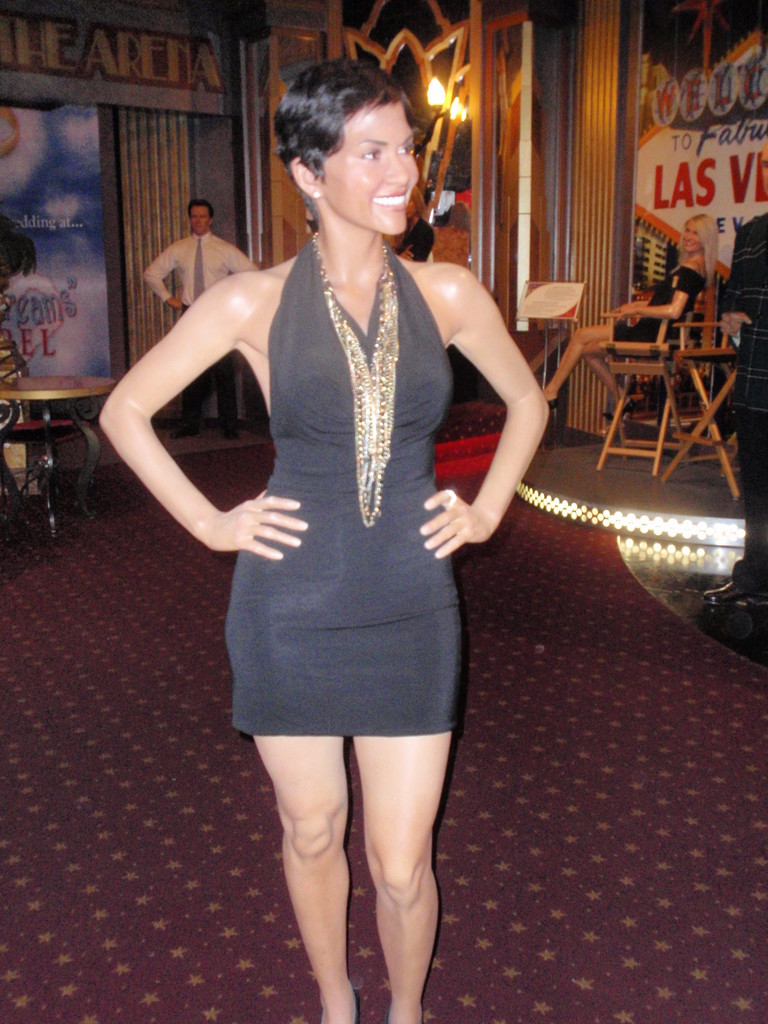Person: (142, 193, 260, 439), (700, 198, 768, 613)
